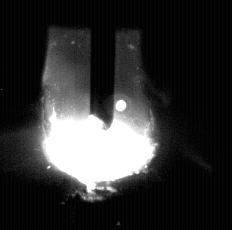arame: (91, 0, 116, 132)
poca: (42, 0, 156, 230)
